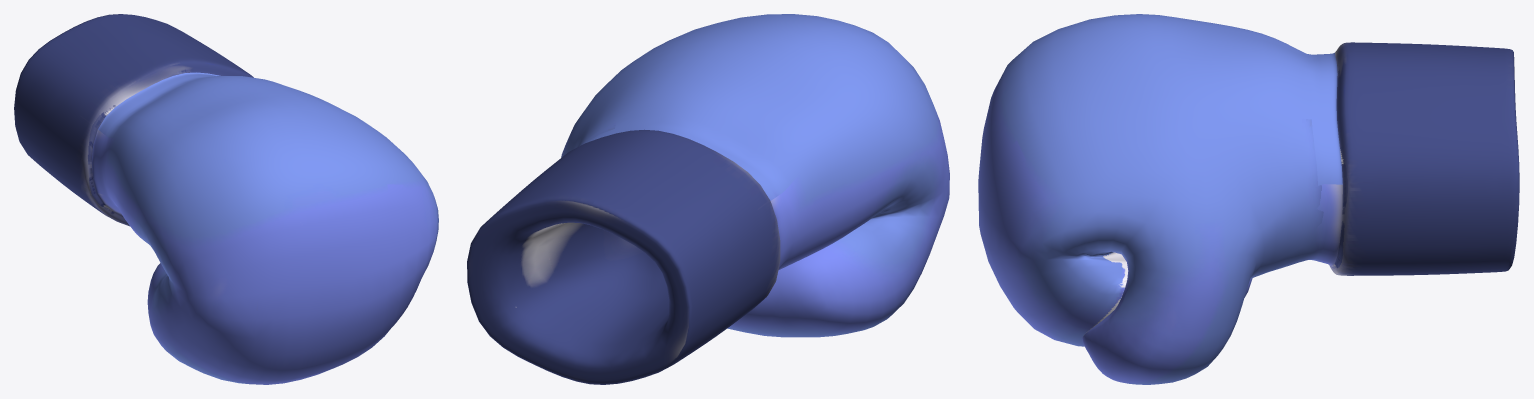
File: RHand.obj
3 renders of one model, left to right at view 1: azimuth 30°, elevation 25°; view 2: azimuth 150°, elevation 25°; view 3: azimuth 270°, elevation 25°, orthographic. The views are drawn at different scales.
Parts seen in each view (by area): view 1: pCube2; view 2: pCube2; view 3: pCube2.
Boxes of the visible parts, x1,y1,x2,y2 form: pCube2: (14, 14, 438, 384); pCube2: (467, 14, 949, 384); pCube2: (978, 14, 1519, 384).
Size of the model in its own units: 1.1 by 0.9498 by 1.59.
1 material, 1 textured.
